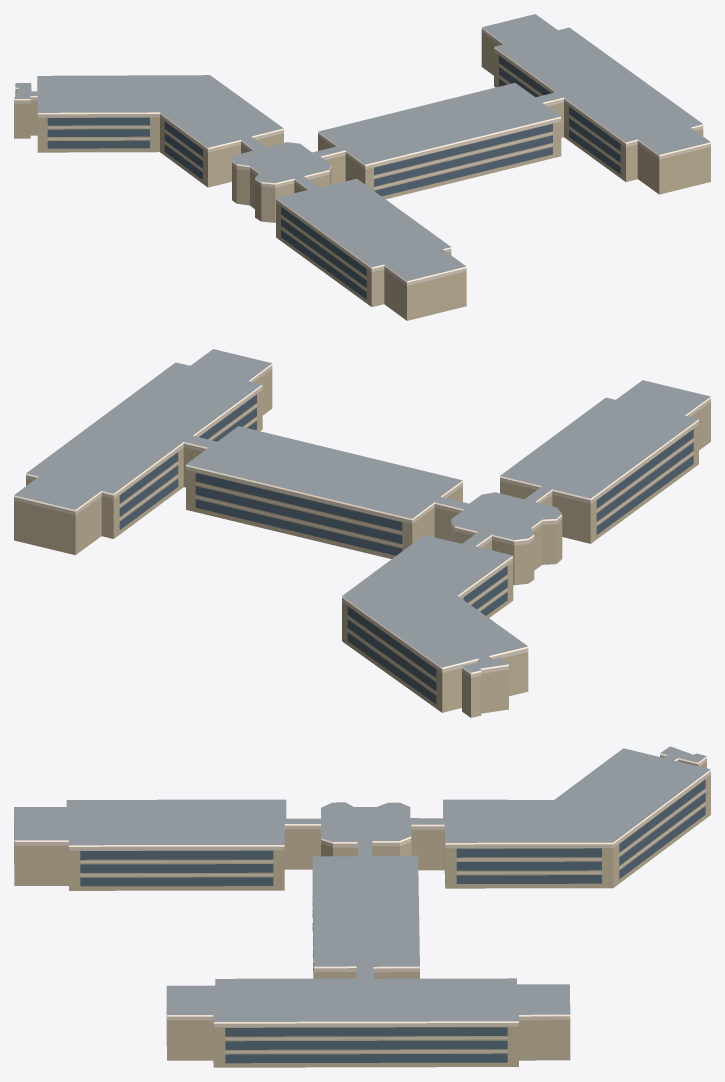
The model's file is wdw-contemporary-garden-wing.glb.
The picture shows the model from 3 angles, top to bottom: view 1: azimuth 30°, elevation 25°; view 2: azimuth 150°, elevation 25°; view 3: azimuth 270°, elevation 25°; orthographic projection. The views are drawn at different scales.
Visible parts, largest first — view 1: Disney's Contemporary Resort Garden Wing; view 2: Disney's Contemporary Resort Garden Wing; view 3: Disney's Contemporary Resort Garden Wing.
Part boxes in pixels (bbox=[...]): Disney's Contemporary Resort Garden Wing: bbox=[14, 14, 710, 320]; Disney's Contemporary Resort Garden Wing: bbox=[14, 349, 710, 717]; Disney's Contemporary Resort Garden Wing: bbox=[14, 746, 710, 1067].
Bounding box in the file's own units: 142 × 11 × 152.
